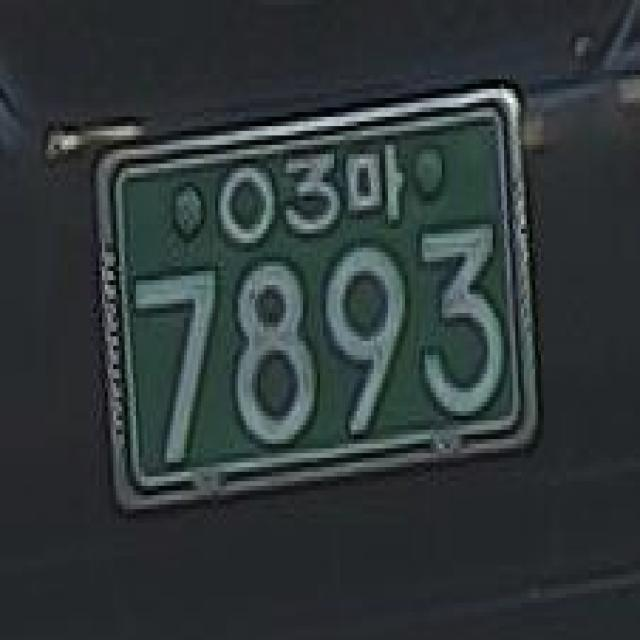illegal_plate: (82, 90, 550, 518)
